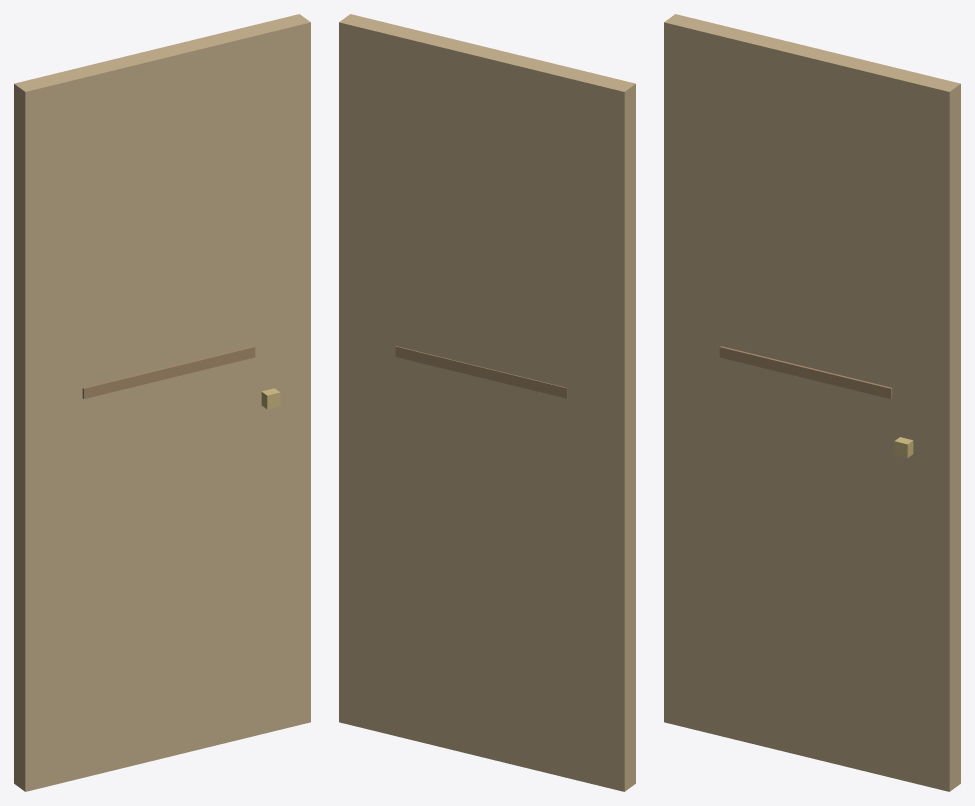
The model's file is mdl_architecture_door_simple_001.glb.
3 renders of one model, left to right at view 1: azimuth 30°, elevation 25°; view 2: azimuth 150°, elevation 25°; view 3: azimuth 330°, elevation 25°, orthographic.
Parts seen in each view (by area): view 1: m_madera_clara, m_madera; view 2: m_madera_clara, m_madera; view 3: m_madera_clara, m_madera.
Boxes of the visible parts, x1,y1,x2,y2 form: m_madera_clara: [14, 14, 310, 791]; m_madera: [82, 346, 255, 398]; m_madera_clara: [339, 14, 635, 791]; m_madera: [395, 346, 567, 398]; m_madera_clara: [664, 14, 960, 791]; m_madera: [719, 346, 892, 398].
Bounding box in the file's own units: 0.8659 × 2.03 × 0.093.
